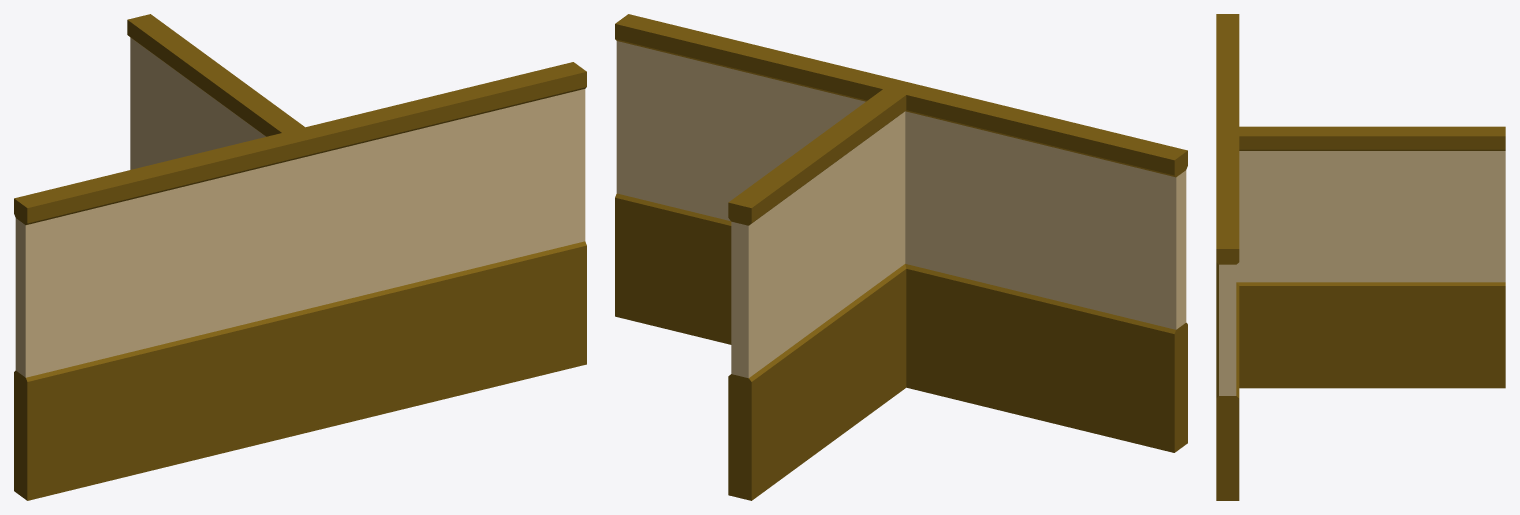
File: Classic_Wall_Joint_snaps001_01.fbx
3 views of the same model, side by side, from view 1: azimuth 30°, elevation 25°; view 2: azimuth 150°, elevation 25°; view 3: azimuth 270°, elevation 25° (orthographic). The views are drawn at different scales.
Parts seen in each view (by area): view 1: Classic_Wall_Joint_snaps001_01; view 2: Classic_Wall_Joint_snaps001_01; view 3: Classic_Wall_Joint_snaps001_01.
Part boxes in pixels (left/top/right/bottom): Classic_Wall_Joint_snaps001_01: left=14, top=14, right=586, bottom=500; Classic_Wall_Joint_snaps001_01: left=615, top=14, right=1187, bottom=500; Classic_Wall_Joint_snaps001_01: left=1216, top=14, right=1505, bottom=500.
Bounding box in the file's own units: 600 × 300 × 313.
